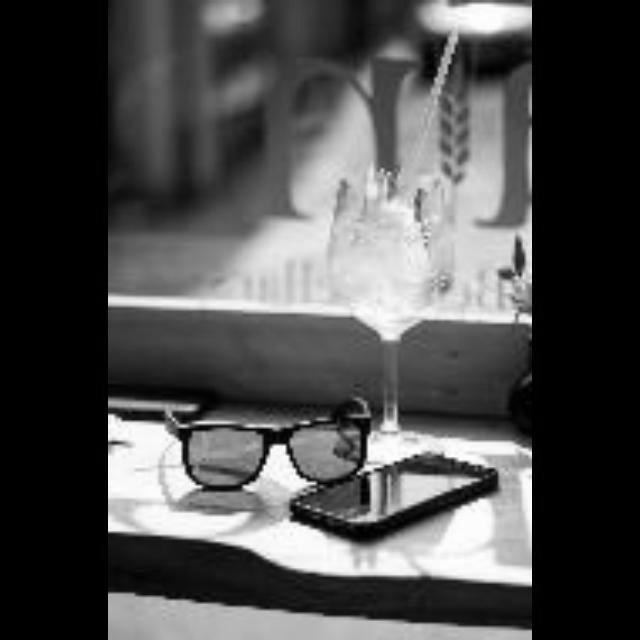fake: (292, 430, 504, 552)
